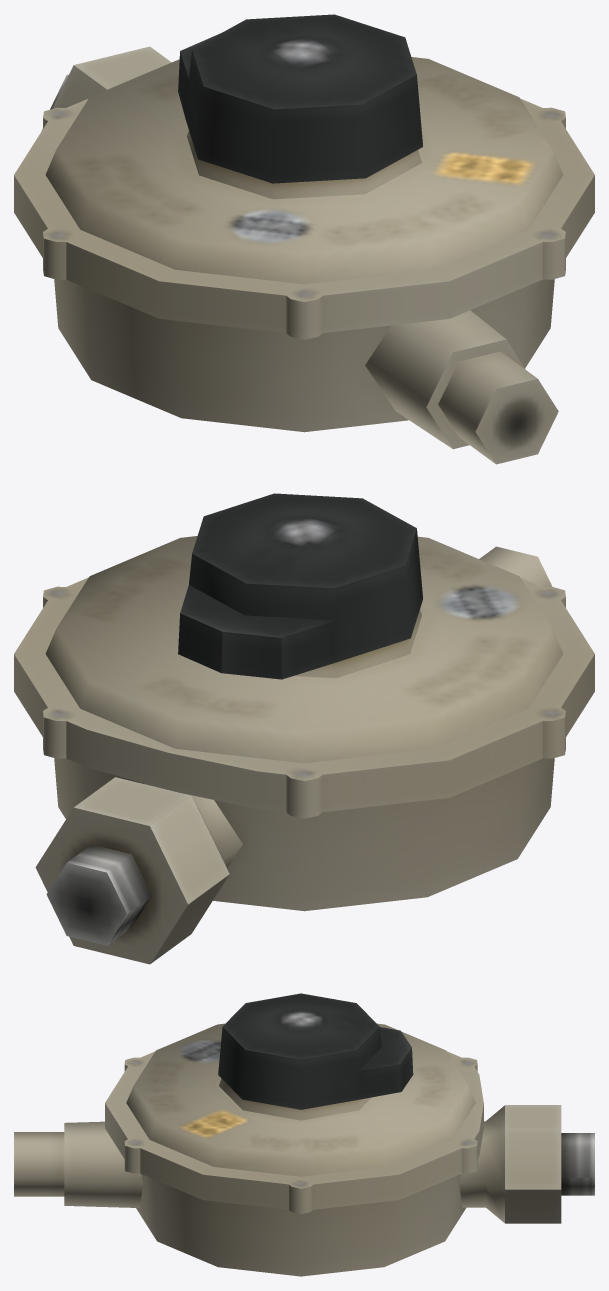
Rendered from jsf_GasRegulator.fbx.
3 renders of one model, top to bottom at view 1: azimuth 30°, elevation 25°; view 2: azimuth 150°, elevation 25°; view 3: azimuth 270°, elevation 25°, orthographic. The views are drawn at different scales.
Visible parts, largest first — view 1: jsf_GasRegulator; view 2: jsf_GasRegulator; view 3: jsf_GasRegulator.
Part boxes in pixels (x1,y1,x2,y2): jsf_GasRegulator: (14,14,594,464); jsf_GasRegulator: (14,493,594,964); jsf_GasRegulator: (14,993,594,1276).
Size of the model in its own units: 9.93 by 5.21 by 14.2.
